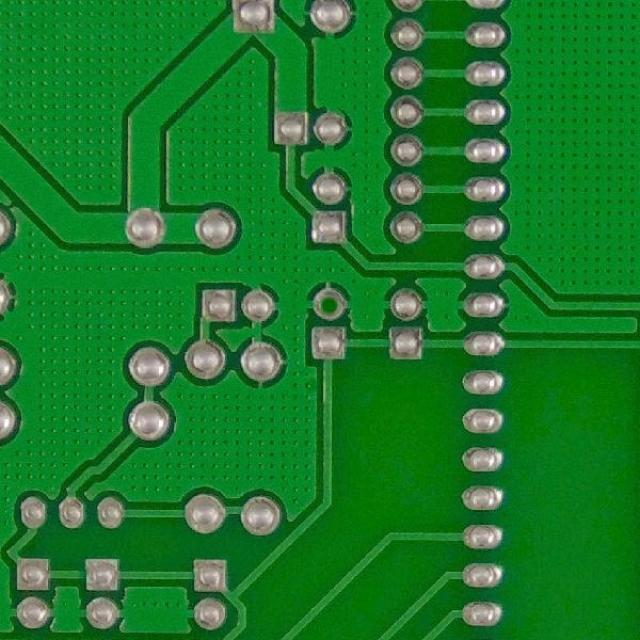missing_hole: (309, 278, 348, 320)
